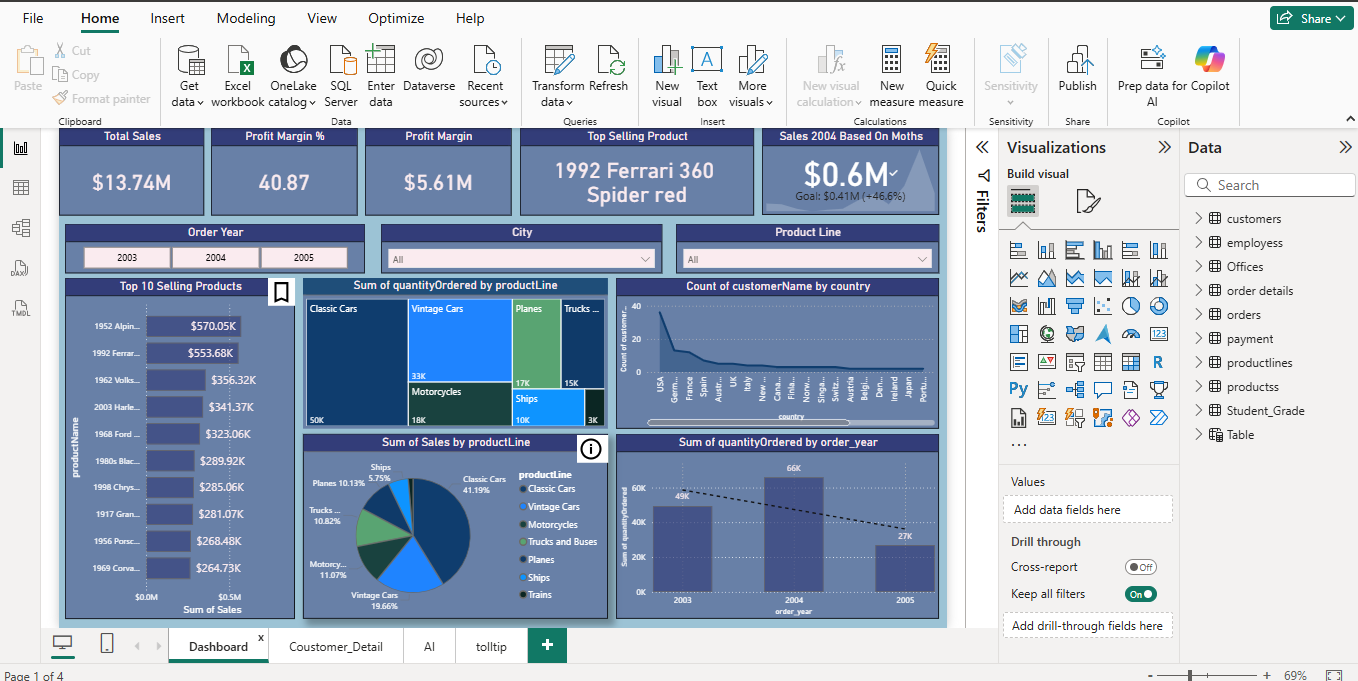

What the dashboard file says about the page in this screenshot:
{"tool":"powerbi","page":{"name":"Dashboard","canvas":[1280,720],"ordinal":0},"visuals":[{"type":"card","title":"Profit Margin","fields":{"Values":["order details.total_profit"]},"box":[440.5,0,210.7,125.8],"z":0},{"type":"card","title":"Top Selling Product","fields":{"Values":["order details.MostOrderedProduct"]},"box":[664.4,0,336.6,125.8],"z":1000},{"type":"barChart","title":"Top 10 Selling Products","fields":{"Category":["productss.productName"],"Y":["Sum(order details.Sales)"]},"box":[8.6,216,331.2,491],"z":2000},{"type":"pieChart","fields":{"Category":["productss.productLine"],"Y":["Sum(order details.Sales)"]},"box":[351.4,440.6,439.2,266.4],"z":3000},{"type":"slicer","title":"Order Year","fields":{"Values":["orders.order_year"]},"box":[8.6,138.2,432,70.6],"z":4000},{"type":"kpi","title":"Sales 2004 Based On Moths","fields":{"Indicator":["orders.sales2004"],"Goal":["orders.sales2003"],"TrendLine":["orders.Month Name"]},"box":[1012.3,0,254.9,125.3],"z":5000},{"type":"areaChart","fields":{"Category":["customers.country"],"Y":["CountNonNull(customers.customerName)"]},"box":[802.1,216,465.1,217.4],"z":6000},{"type":"clusteredColumnChart","fields":{"Category":["orders.order_year"],"Y":["Sum(order details.quantityOrdered)"]},"box":[802.1,440.6,465.1,266.4],"z":7000},{"type":"card","title":"Profit Margin %","fields":{"Values":["Offices.profit_margin_%"]},"box":[219.5,0,210.7,125.8],"z":8000},{"type":"card","title":"Total Sales","fields":{"Values":["Sum(order details.Sales)"]},"box":[0,0,209.3,125.8],"z":9000},{"type":"slicer","title":"City","fields":{"Values":["Offices.city"]},"box":[463.7,138.2,404.6,70.6],"z":10000},{"type":"slicer","title":"Product Line","fields":{"Values":["productlines.productLine"]},"box":[888.5,138.2,378.7,70.6],"z":11000},{"type":"treemap","fields":{"Group":["productlines.productLine"],"Values":["Sum(order details.quantityOrdered)"]},"box":[351.4,216,439.2,217.4],"z":12000},{"type":"actionButton","box":[745.9,442.1,44.6,40.3],"z":13000},{"type":"actionButton","box":[301,216,38.9,40.3],"z":14000}]}

Visuals, with their boxes on the page's 1280x720 design canvas (x1, y1, x2, y2). These are canvas units, not pixel positions in the 1358x681 screenshot, which may show the page scaled, cropped or inside an application window:
"Profit Margin" card: [left=440, top=0, right=651, bottom=126]
"Top Selling Product" card: [left=664, top=0, right=1001, bottom=126]
"Top 10 Selling Products" barChart: [left=9, top=216, right=340, bottom=707]
pieChart - productss.productLine x Sum(order details.Sales): [left=351, top=441, right=791, bottom=707]
"Order Year" slicer: [left=9, top=138, right=441, bottom=209]
"Sales 2004 Based On Moths" kpi: [left=1012, top=0, right=1267, bottom=125]
areaChart - customers.country x CountNonNull(customers.customerName): [left=802, top=216, right=1267, bottom=433]
clusteredColumnChart - orders.order_year x Sum(order details.quantityOrdered): [left=802, top=441, right=1267, bottom=707]
"Profit Margin %" card: [left=220, top=0, right=430, bottom=126]
"Total Sales" card: [left=0, top=0, right=209, bottom=126]
"City" slicer: [left=464, top=138, right=868, bottom=209]
"Product Line" slicer: [left=888, top=138, right=1267, bottom=209]
treemap - productlines.productLine x Sum(order details.quantityOrdered): [left=351, top=216, right=791, bottom=433]
actionButton: [left=746, top=442, right=790, bottom=482]
actionButton: [left=301, top=216, right=340, bottom=256]
